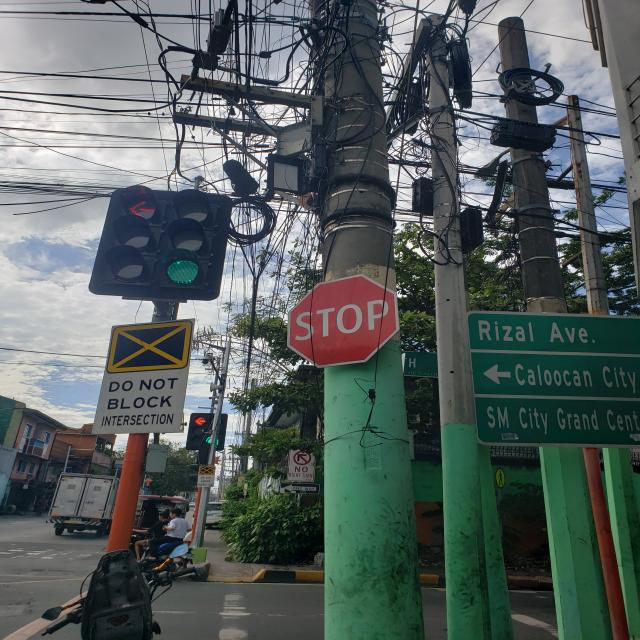stop-sign: (287, 274, 400, 368)
